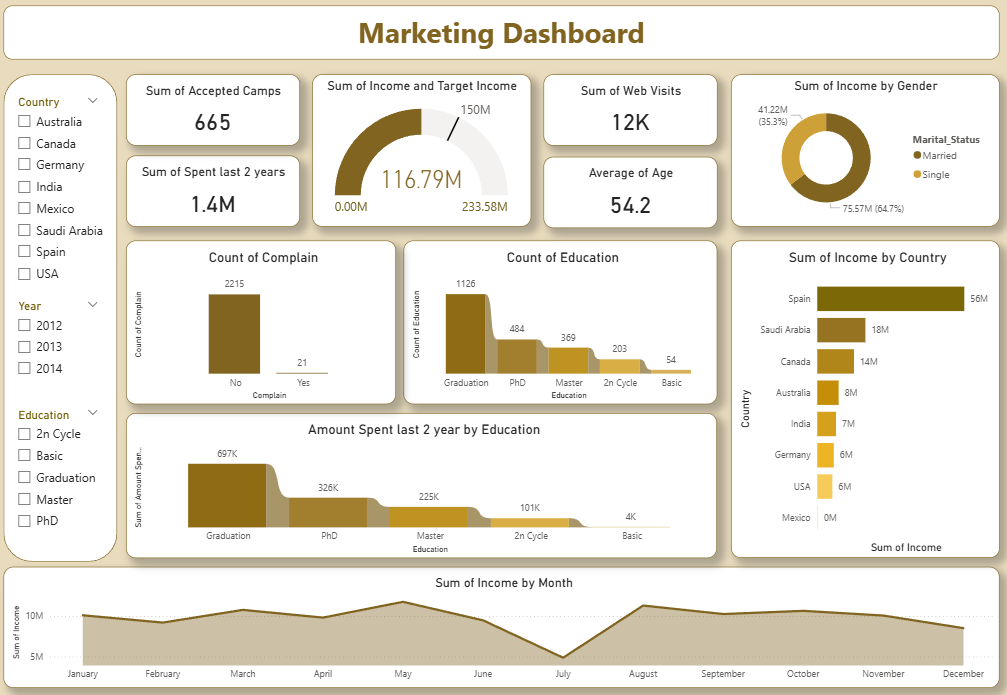

The page's visual inventory and layout, read from the dashboard file:
{"tool":"powerbi","page":{"name":"Page 1","canvas":[1350,940],"ordinal":0},"visuals":[{"type":"card","title":"Sum of Spent last 2 years","fields":{"Values":["Sum(marketing_data.Amount Spent iast 2 years)"]},"box":[173.3,216.7,231.7,95],"z":0},{"type":"card","title":"Sum of Web Visits","fields":{"Values":["Sum(marketing_data.NumWebVisitsMonth)"]},"box":[730,108.3,231.7,95],"z":1000},{"type":"card","title":"Average of Age","fields":{"Values":["Avg(marketing_data.Age of Person)"]},"box":[730,218.3,231.7,95],"z":2000},{"type":"card","title":"Sum of Accepted Camps","fields":{"Values":["Sum(marketing_data.Num of accepted Campaigns)"]},"box":[173.3,108.3,231.7,95],"z":3000},{"type":"gauge","fields":{"Y":["Sum(marketing_data. Income )"],"TargetValue":["marketing_data.Target Income"]},"box":[421.7,108.3,291.7,203.3],"z":4000},{"type":"textbox","box":[10,16.7,1328.3,71.7],"z":5000},{"type":"shape","box":[10,108.3,151.7,650],"z":6000},{"type":"donutChart","title":"Sum of  Income  by Gender","fields":{"Category":["marketing_data.Marital_Status"],"Y":["Sum(marketing_data. Income )"]},"box":[980,108.3,358.3,203.3],"z":7000},{"type":"slicer","fields":{"Values":["marketing_data.Country"]},"box":[16.7,131.7,131.7,278.3],"z":8000},{"type":"slicer","fields":{"Values":["marketing_data.Dt_Customer.Variation.Date Hierarchy.Year"]},"box":[16.7,403.3,131.7,135],"z":9000},{"type":"slicer","fields":{"Values":["marketing_data.Education"]},"box":[16.7,548.3,131.7,185],"z":10000},{"type":"lineChart","fields":{"Y":["Sum(marketing_data. Income )"],"Category":["marketing_data.Dt_Customer.Variation.Date Hierarchy.Month"]},"box":[10,765,1328.3,161.7],"z":11000},{"type":"clusteredBarChart","fields":{"Category":["marketing_data.Country"],"Y":["Sum(marketing_data. Income )"]},"box":[980,330,358.3,423.3],"z":12000},{"type":"columnChart","title":"Count of Education ","fields":{"Category":["marketing_data.Education"],"Y":["CountNonNull(marketing_data.Education)"]},"box":[543.3,330,418.3,218.3],"z":13000},{"type":"columnChart","title":"Amount Spent last 2 year by Education","fields":{"Y":["Sum(marketing_data.Amount Spent last 2 years)"],"Category":["marketing_data.Education"]},"box":[173.3,560,788.3,193.3],"z":14000},{"type":"columnChart","title":"Count of Complain ","fields":{"Category":["marketing_data.Complain"],"Y":["CountNonNull(marketing_data.Complain)"]},"box":[173.3,330,360,218.3],"z":15000}]}

Visuals, with their boxes in screenshot pixels (x1, y1, x2, y2), scaled from the page's 1350x940 canvas onto the 1007x695 screenshot:
"Sum of Spent last 2 years" card: bbox=[129, 160, 302, 230]
"Sum of Web Visits" card: bbox=[545, 80, 717, 150]
"Average of Age" card: bbox=[545, 161, 717, 232]
"Sum of Accepted Camps" card: bbox=[129, 80, 302, 150]
gauge - Sum(marketing_data. Income ) x marketing_data.Target Income: bbox=[315, 80, 532, 230]
textbox: bbox=[7, 12, 998, 65]
shape: bbox=[7, 80, 121, 561]
"Sum of  Income  by Gender" donutChart: bbox=[731, 80, 998, 230]
slicer - marketing_data.Country: bbox=[12, 97, 111, 303]
slicer - marketing_data.Dt_Customer.Variation.Date Hierarchy.Year: bbox=[12, 298, 111, 398]
slicer - marketing_data.Education: bbox=[12, 405, 111, 542]
lineChart - Sum(marketing_data. Income ) x marketing_data.Dt_Customer.Variation.Date Hierarchy.Month: bbox=[7, 566, 998, 685]
clusteredBarChart - marketing_data.Country x Sum(marketing_data. Income ): bbox=[731, 244, 998, 557]
"Count of Education " columnChart: bbox=[405, 244, 717, 405]
"Amount Spent last 2 year by Education" columnChart: bbox=[129, 414, 717, 557]
"Count of Complain " columnChart: bbox=[129, 244, 398, 405]
